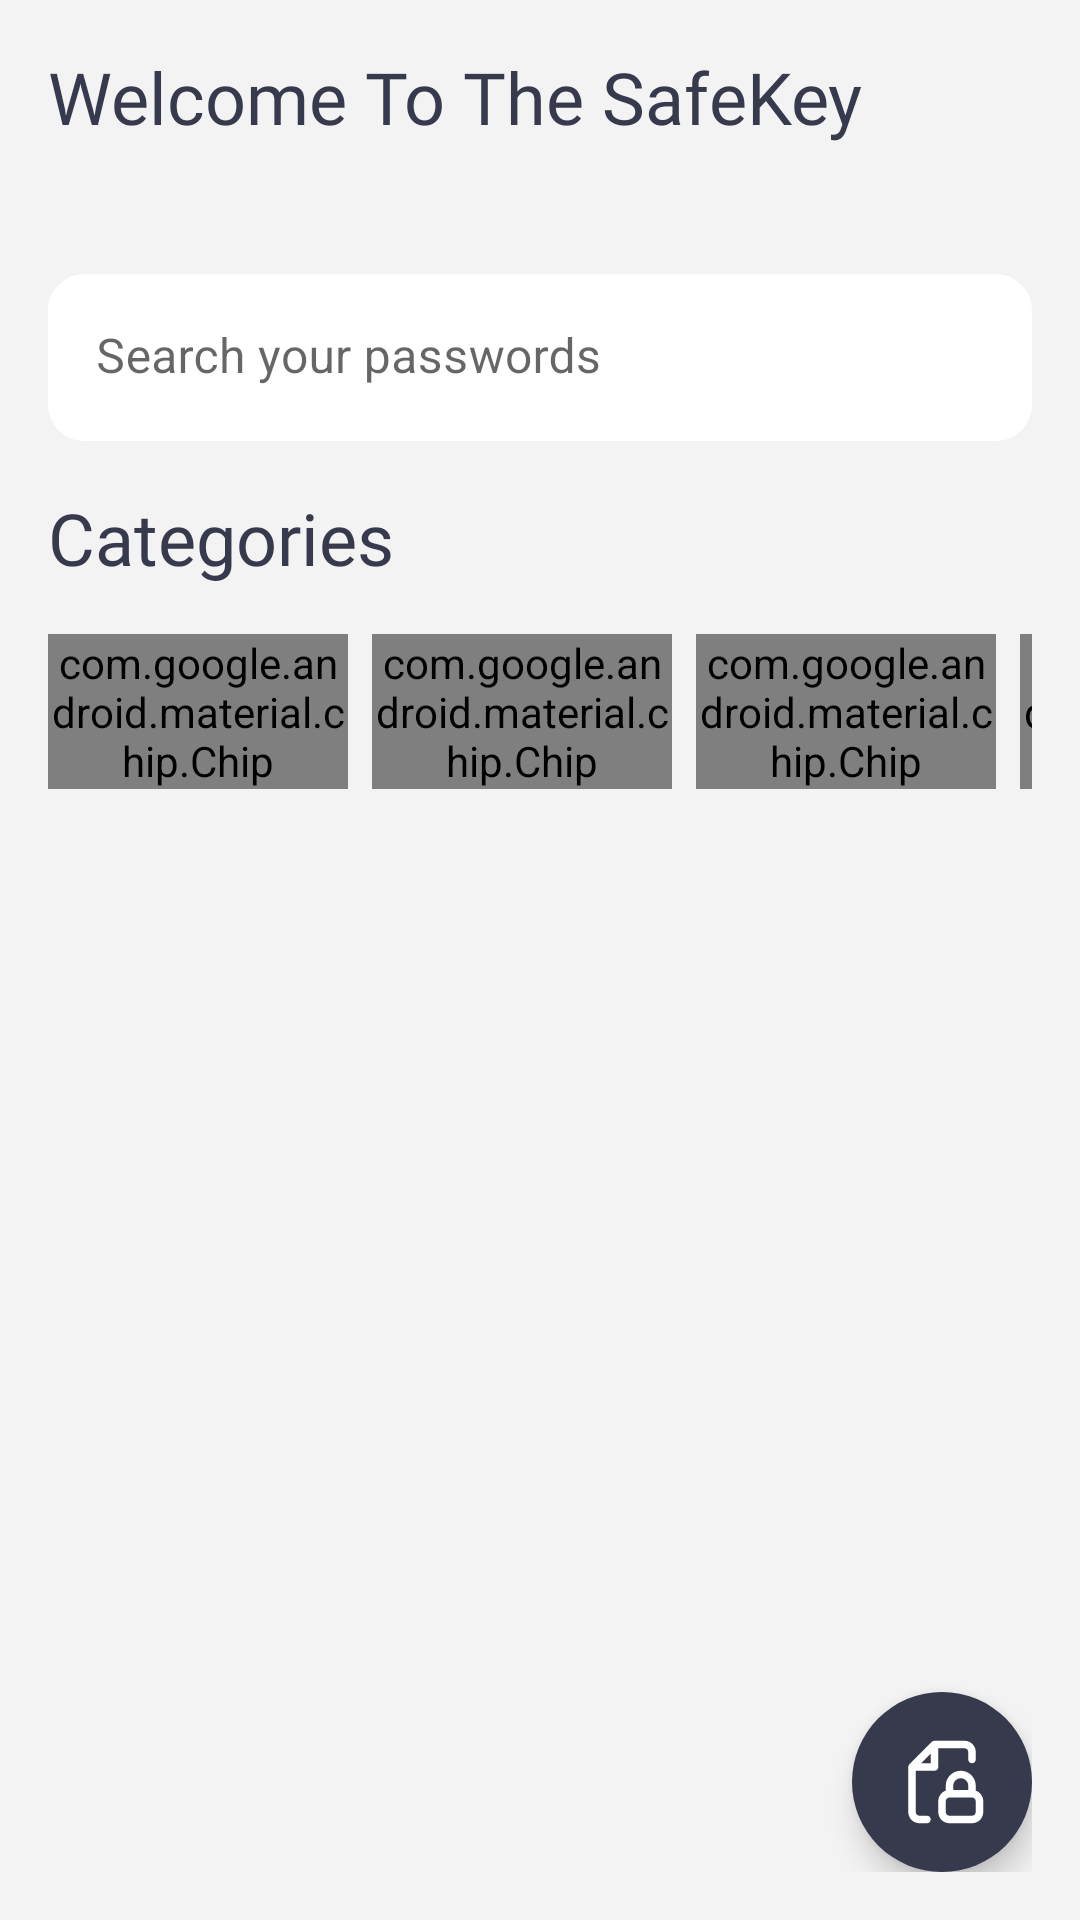

Icons on this 1080×1920 Android screen, each with the point to tap as [x,y]:
add password: [942,1782]
